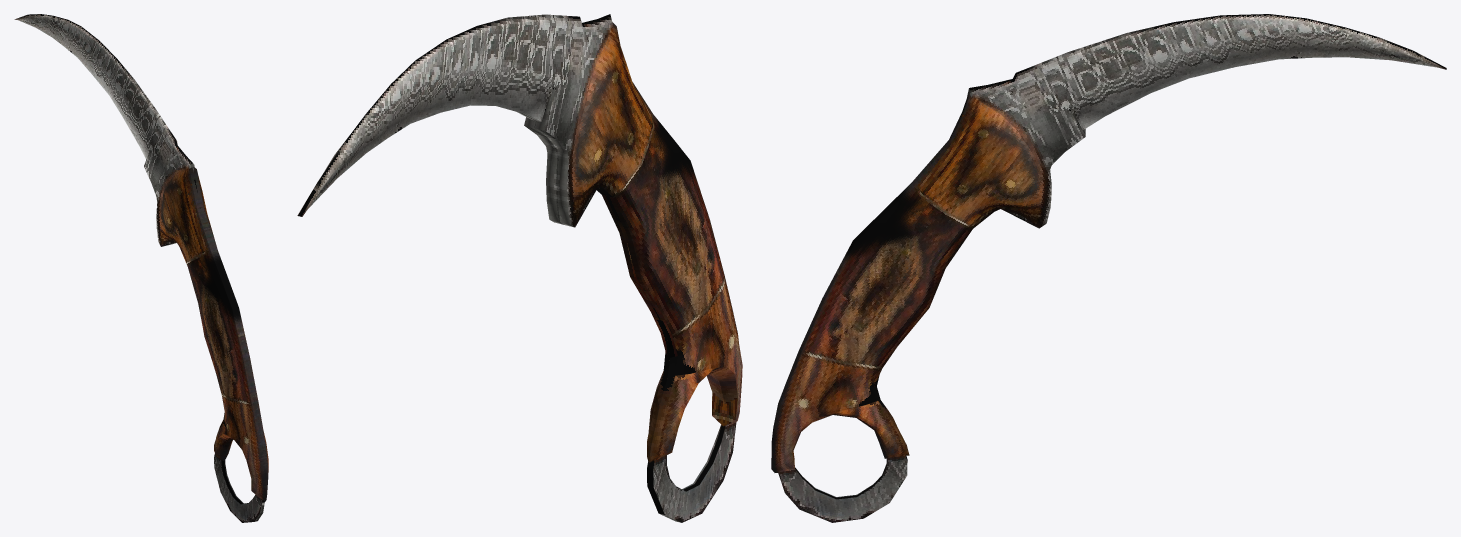
Rendered from karambit.glb.
3 renders of one model, left to right at view 1: azimuth 30°, elevation 25°; view 2: azimuth 150°, elevation 25°; view 3: azimuth 270°, elevation 25°, orthographic. The views are drawn at different scales.
Parts seen in each view (by area): view 1: Grip.001, Blade.002, Grip; view 2: Grip.001, Blade.002, Grip, Blade; view 3: Grip, Blade.
Part boxes in pixels (bbox=[...]): Grip.001: bbox=[163, 167, 266, 501]; Blade.002: bbox=[14, 14, 264, 522]; Grip: bbox=[193, 167, 268, 498]; Grip.001: bbox=[579, 22, 742, 462]; Blade.002: bbox=[300, 14, 736, 522]; Grip: bbox=[596, 188, 724, 462]; Blade: bbox=[297, 63, 725, 521]; Grip: bbox=[771, 94, 1033, 472]; Blade: bbox=[778, 14, 1446, 522].
Bounding box in the file's own units: 0.181 × 3.17 × 3.82.
2 materials, 2 textured.
